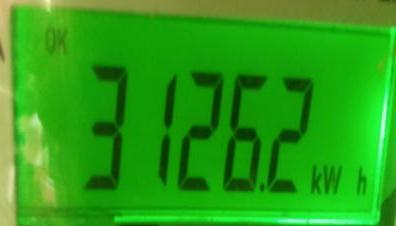.: (309, 160, 371, 200)
0: (257, 183, 267, 194)
2: (158, 65, 179, 193)
3: (266, 75, 314, 199), (177, 72, 223, 190)
7: (86, 62, 131, 190), (223, 73, 262, 193)
